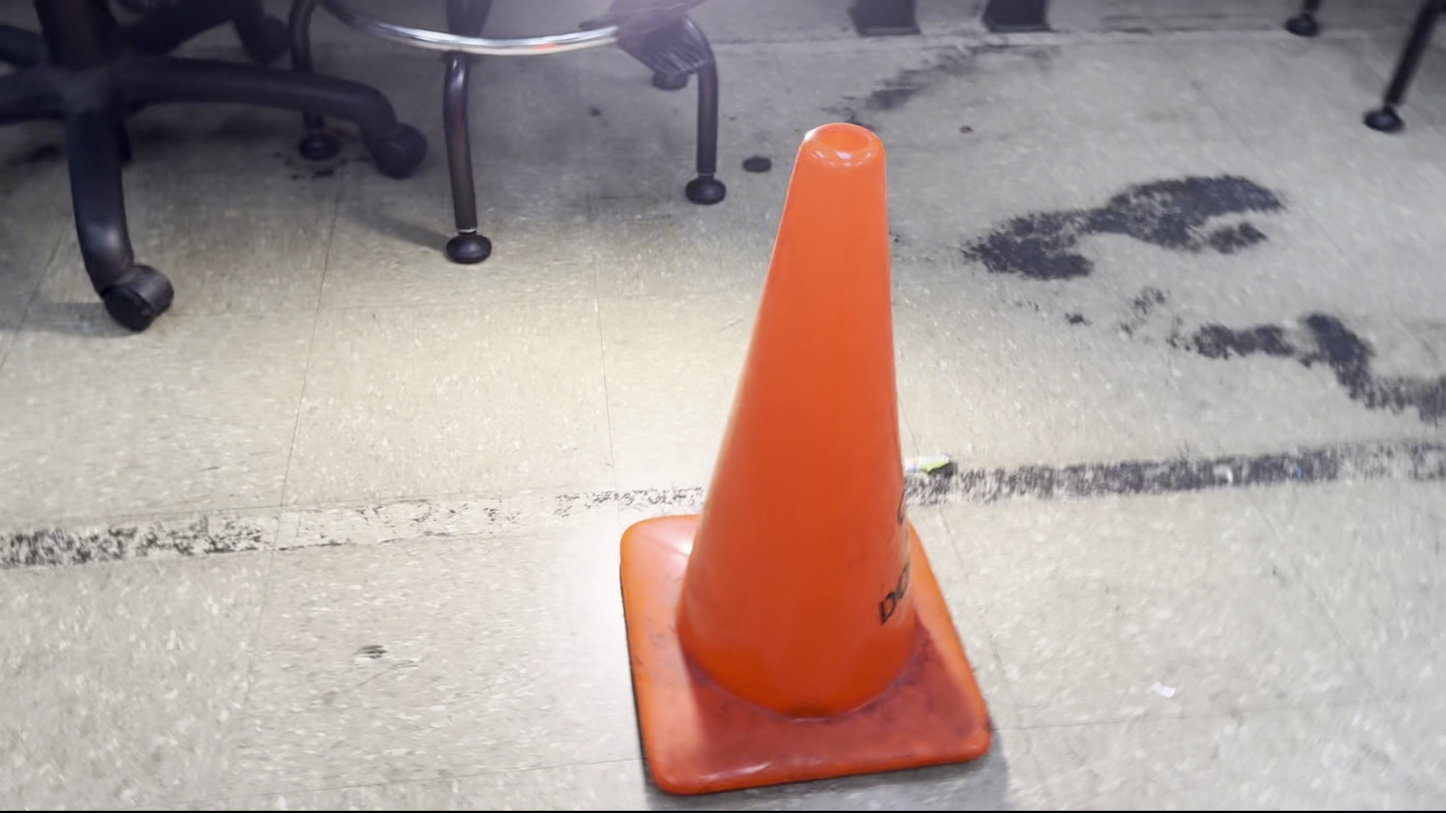traffic_cone: (619, 121, 994, 796)
